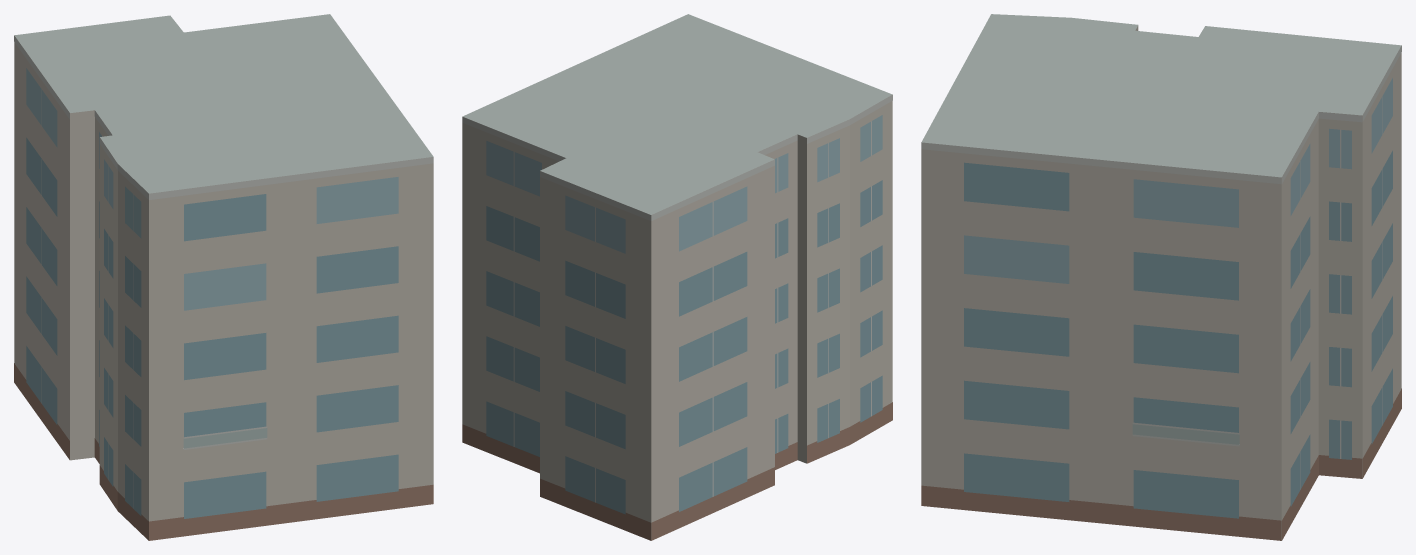
The model's file is survey-upis-32667113.glb.
The picture shows the model from 3 angles, left to right: view 1: azimuth 30°, elevation 25°; view 2: azimuth 150°, elevation 25°; view 3: azimuth 270°, elevation 25°; orthographic projection. The views are drawn at different scales.
Parts seen in each view (by area): view 1: survey-upis-32667113.tmp; view 2: survey-upis-32667113.tmp; view 3: survey-upis-32667113.tmp.
Boxes of the visible parts, x1,y1,x2,y2 form: survey-upis-32667113.tmp: (14, 14, 433, 540); survey-upis-32667113.tmp: (462, 14, 892, 540); survey-upis-32667113.tmp: (921, 14, 1401, 540).
Bounding box in the file's own units: 12.55 × 13 × 15.58.
